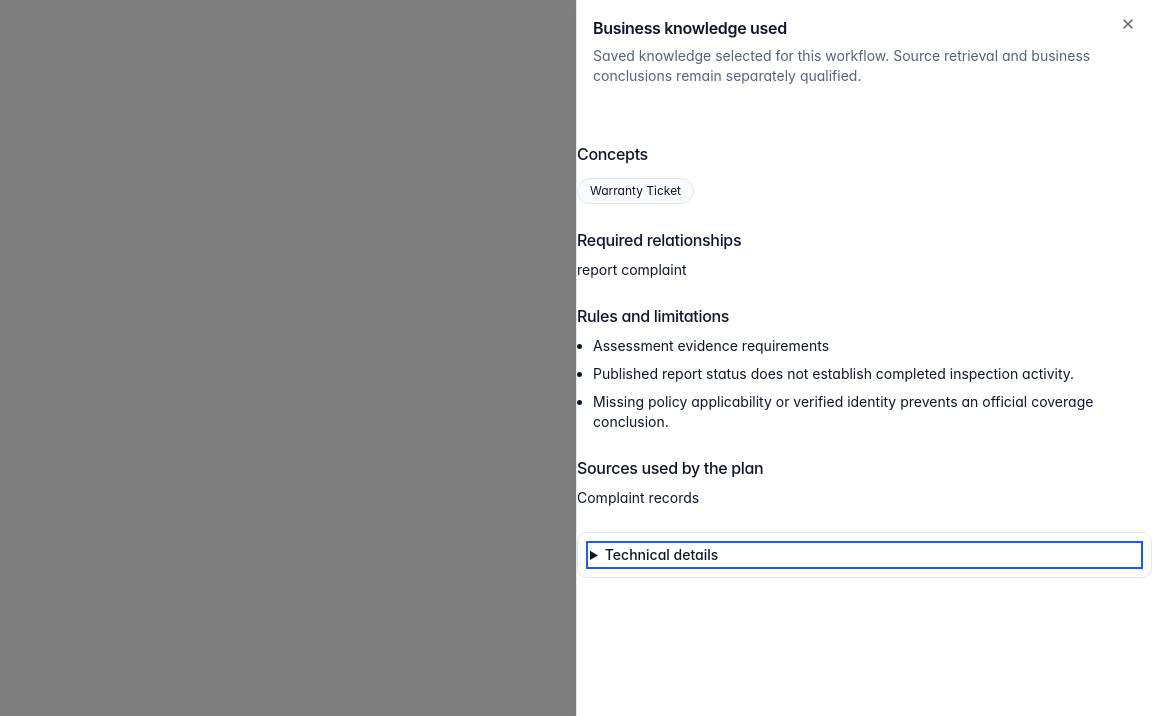
investigation presentation › keeps ontology hashes and field paths behind technical details
Expected: the heading "Business knowledge used" is shown, [593, 18, 787, 38]
Expected: the text "Warranty Ticket" is shown, [577, 178, 694, 204]
Click the heading "Technical details": (662, 554) [605, 546, 718, 563]
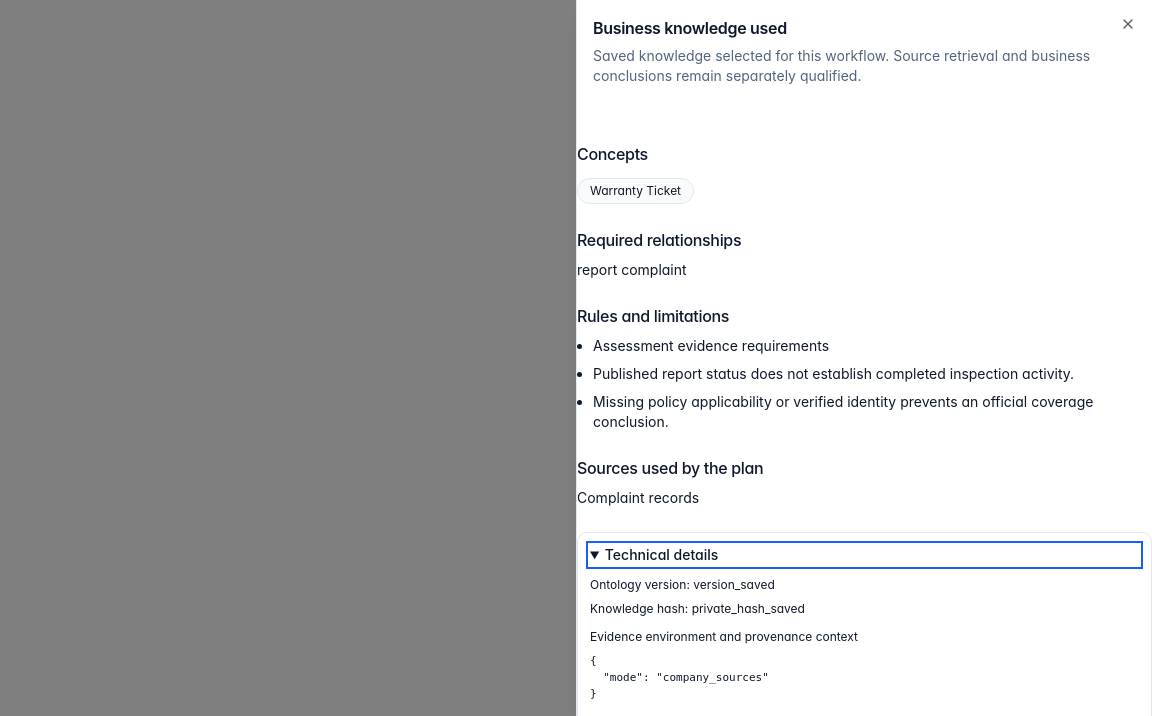
Expected: the text "Knowledge hash: private_hash_saved" is shown, [590, 601, 805, 616]
